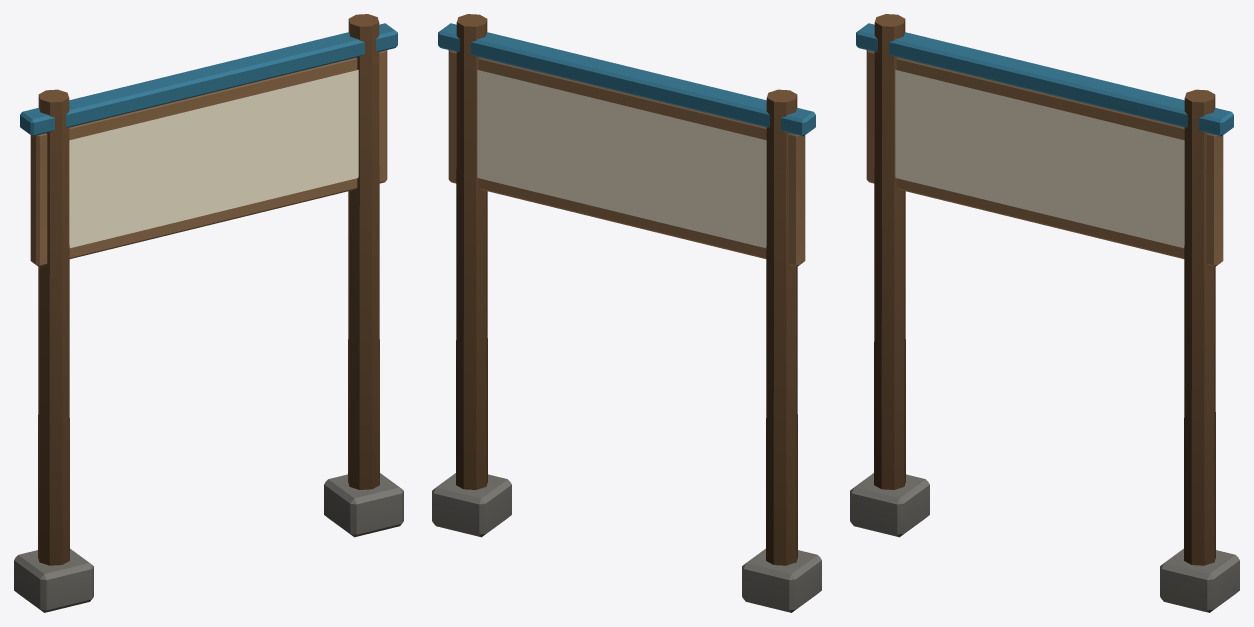
File: dock_dest_board.glb
3 renders of one model, left to right at view 1: azimuth 30°, elevation 25°; view 2: azimuth 150°, elevation 25°; view 3: azimuth 330°, elevation 25°, orthographic.
Visible parts, largest first — view 1: dock_dest_board, plate; view 2: dock_dest_board, plate; view 3: dock_dest_board, plate.
Boxes of the visible parts, x1,y1,x2,y2 form: dock_dest_board: (14, 14, 403, 612); plate: (69, 70, 358, 248); dock_dest_board: (432, 14, 821, 612); plate: (477, 70, 766, 248); dock_dest_board: (850, 14, 1239, 612); plate: (895, 70, 1184, 248).
Bounding box in the file's own units: 1.78 × 2.32 × 0.26.
